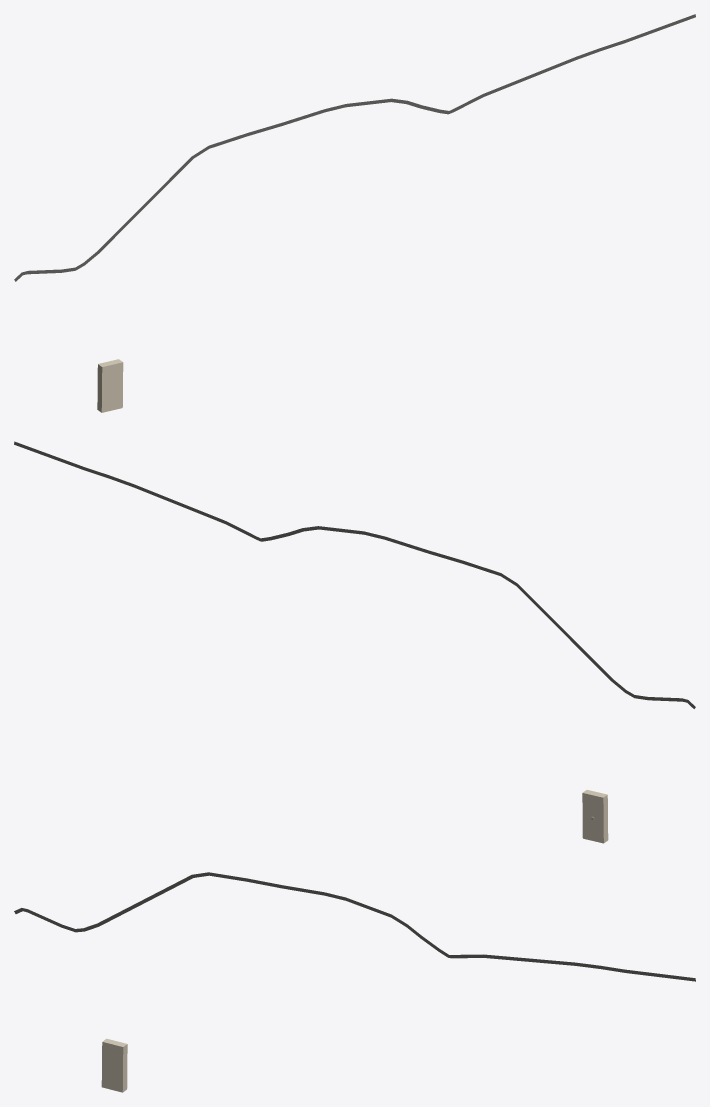
Rendered from historic-palestine-13_25_3547_3191.glb.
The picture shows the model from 3 angles, top to bottom: view 1: azimuth 30°, elevation 25°; view 2: azimuth 150°, elevation 25°; view 3: azimuth 330°, elevation 25°; orthographic projection.
Parts seen in each view (by area): view 1: Road, Building_; view 2: Road, Building_; view 3: Road, Building_.
Part boxes in pixels (box(x1,y1,x2,y2)): Road: box(14, 14, 695, 281); Building_: box(97, 359, 123, 412); Road: box(14, 441, 695, 708); Building_: box(582, 790, 608, 843); Road: box(14, 872, 695, 981); Building_: box(101, 1038, 127, 1092).
Bounding box in the file's own units: 679 × 242 × 8.7.
